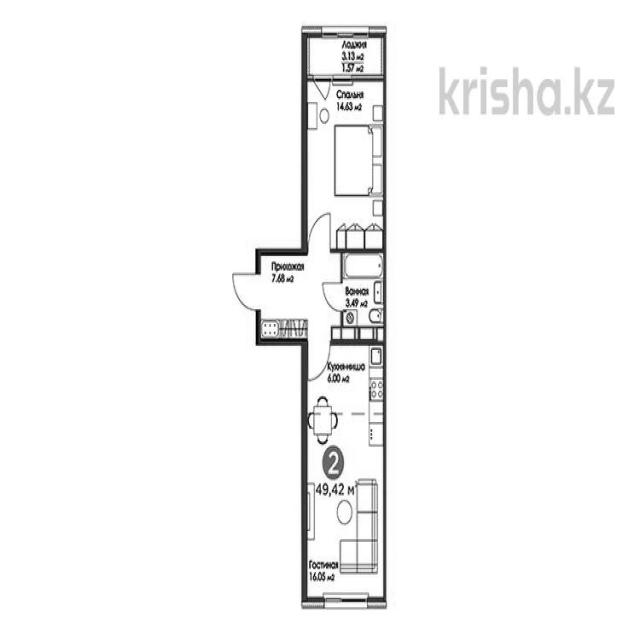balcony: (302, 34, 386, 78)
bathroom: (342, 254, 384, 329)
hallway: (259, 255, 342, 341)
living_room: (304, 343, 384, 601), (305, 80, 385, 250)
